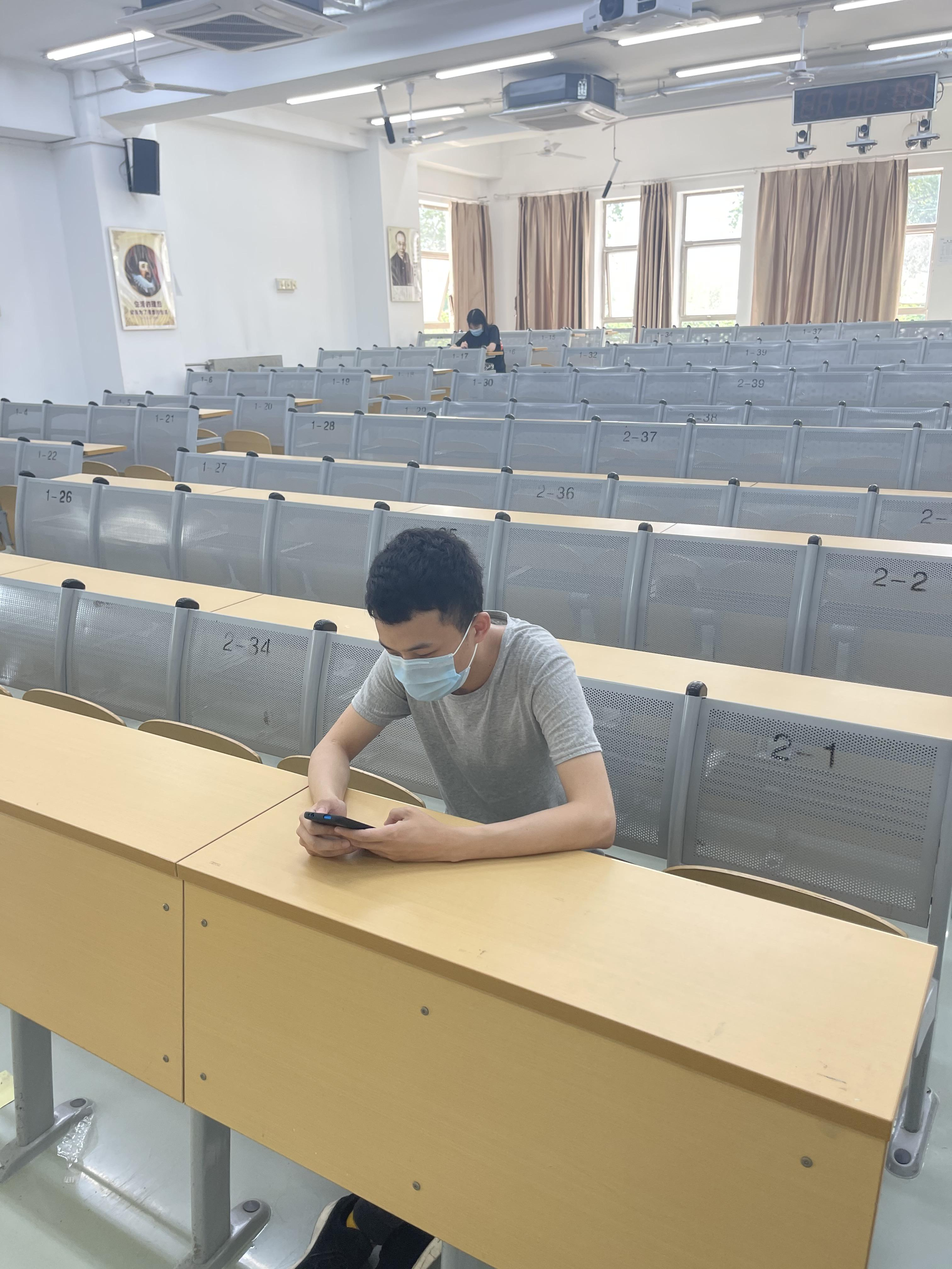phone: (299, 525, 614, 862)
